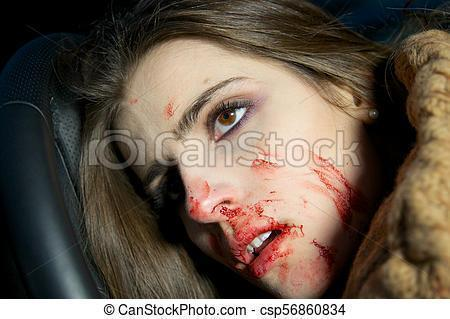Fire: (310, 148, 365, 226), (250, 242, 287, 278), (313, 239, 338, 272), (186, 183, 207, 220), (221, 220, 251, 242), (272, 222, 304, 236), (247, 200, 272, 216), (220, 206, 246, 220), (165, 96, 180, 120), (251, 159, 278, 170)
